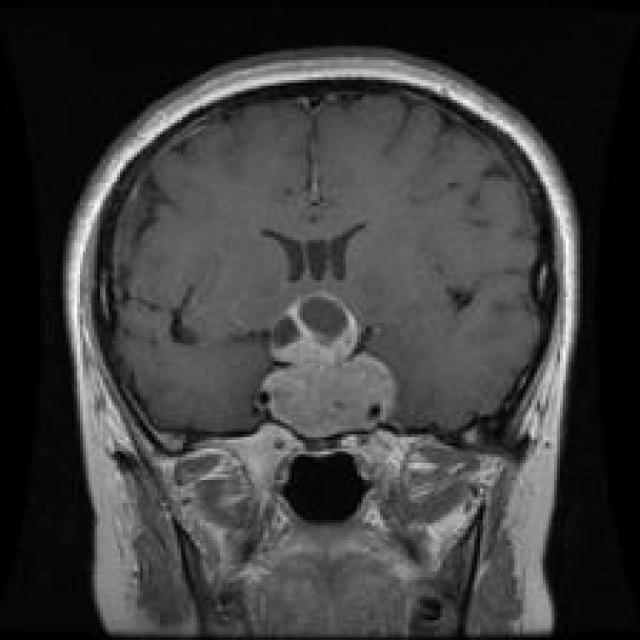pituitary_tumor: (248, 289, 410, 444)
